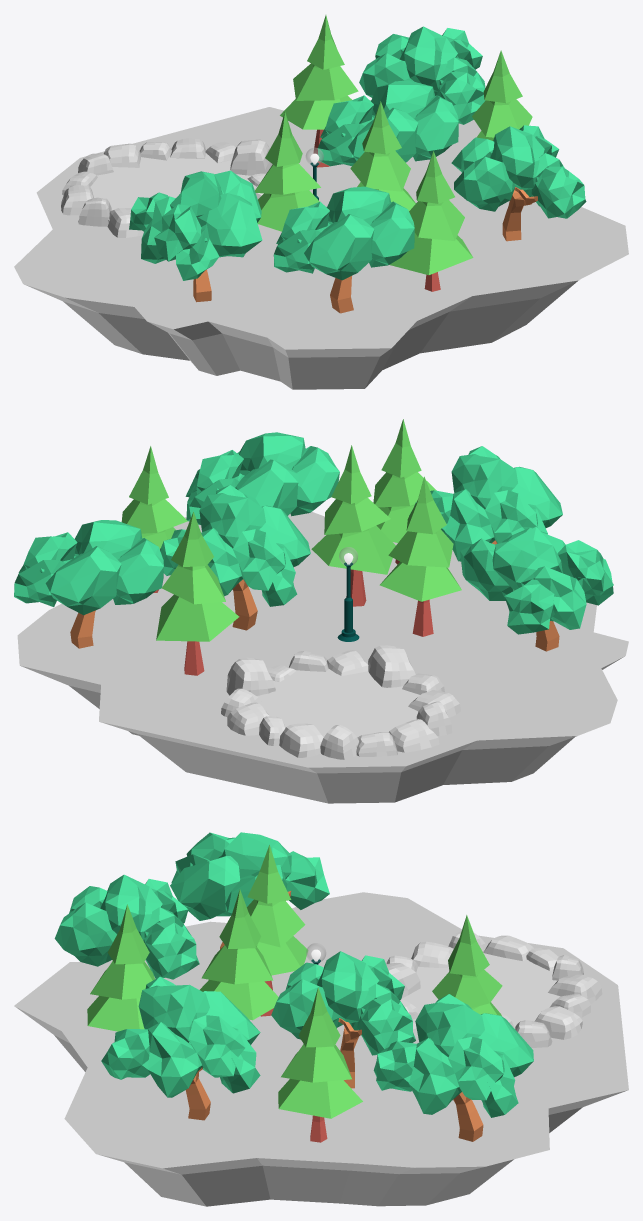
File: Floating_Island.glb
3 views of the same model, one above another, from view 1: azimuth 30°, elevation 25°; view 2: azimuth 150°, elevation 25°; view 3: azimuth 270°, elevation 25° (orthographic). The views are drawn at different scales.
Parts seen in each view (by area): view 1: Vert.001, Tree2.001, Tree2, Tree2.002, Tree2.003, Tree2.004, Tree1, Tree1.004, 柱体, Tree1.001, Tree1.002, Tree1.003 (+7 smaller); view 2: Vert.001, Tree2.001, Tree2.004, Tree2.003, Tree2, Tree2.002, 柱体, Tree1.004, Tree1.002, Tree1.001, Tree1, Tree1.003 (+15 smaller); view 3: Vert.001, Tree2.004, Tree2.002, Tree2.003, Tree2, Tree2.001, Tree1.003, Tree1.002, Tree1, 柱体, Tree1.001, Tree1.004 (+8 smaller).
Part boxes in pixels (x1,y1,x2,y2): Vert.001: (14,107,628,389); Tree2.001: (129,170,262,302); Tree2: (273,186,414,313); Tree2.002: (451,125,586,241); Tree2.003: (317,80,458,166); Tree2.004: (359,26,485,124); Tree1: (390,151,473,291); Tree1.004: (280,15,358,167); 柱体: (90,153,255,222); Tree1.001: (255,112,320,231); Tree1.002: (350,101,415,210); Tree1.003: (472,50,532,140); Vert.001: (17,512,628,803); Tree2.001: (460,527,613,651); Tree2.004: (14,520,163,648); Tree2.003: (160,485,310,630); Tree2: (409,446,562,561); Tree2.002: (185,432,339,524); 柱体: (256,668,419,742); Tree1.004: (156,512,239,675); Tree1.002: (311,445,395,606); Tree1.001: (379,476,461,636); Tree1: (373,419,436,564); Tree1.003: (121,446,187,592); Vert.001: (14,892,628,1206); Tree2.004: (373,994,533,1141); Tree2.002: (101,976,260,1120); Tree2.003: (271,951,415,1088); Tree2: (54,874,199,979); Tree2.001: (170,832,329,949); Tree1.003: (278,987,362,1142); Tree1.002: (200,889,278,1020); Tree1: (87,904,154,1031); 柱体: (401,952,560,1028); Tree1.001: (247,845,308,1016); Tree1.004: (432,915,502,1015).
Bounding box in the file's own units: 18.83 × 7.91 × 17.72.
